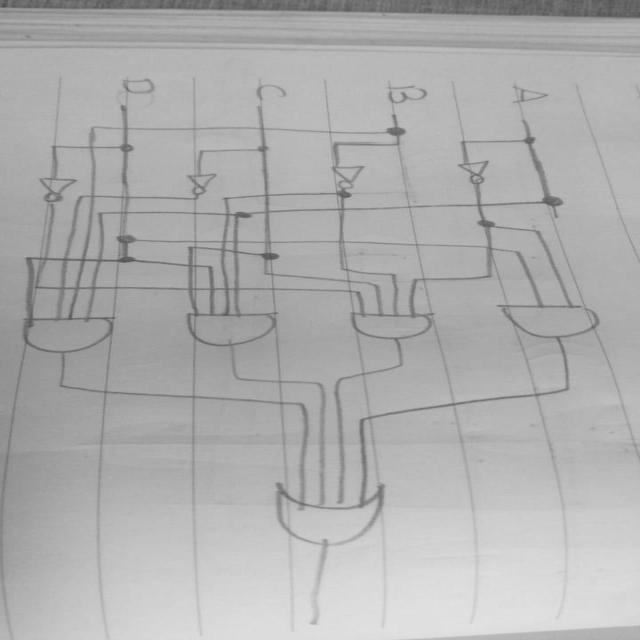AND: (4, 305, 129, 362), (486, 296, 614, 346), (167, 301, 284, 348), (338, 305, 448, 346)
NOT: (324, 160, 384, 195), (449, 156, 510, 187), (33, 168, 80, 204), (178, 170, 221, 197)
OR: (254, 475, 416, 556)
